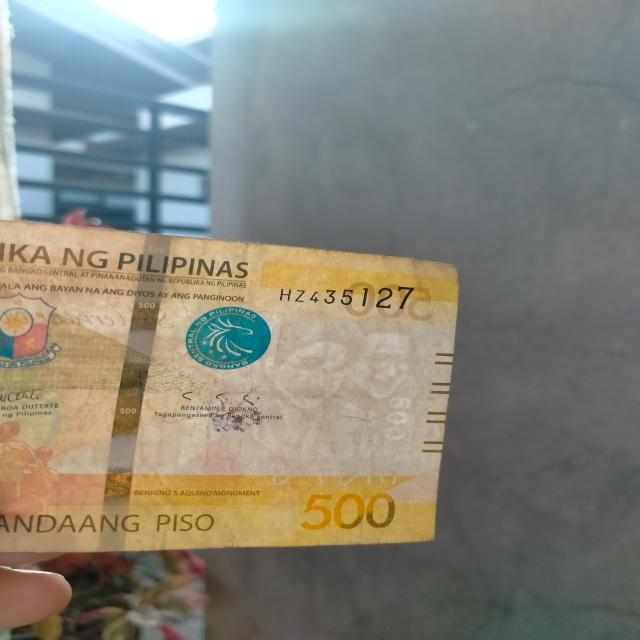security_thread: (102, 228, 168, 548)
see_through_mark: (246, 460, 407, 494)
value_watermark: (376, 390, 416, 451)
watermark: (229, 316, 419, 472)
